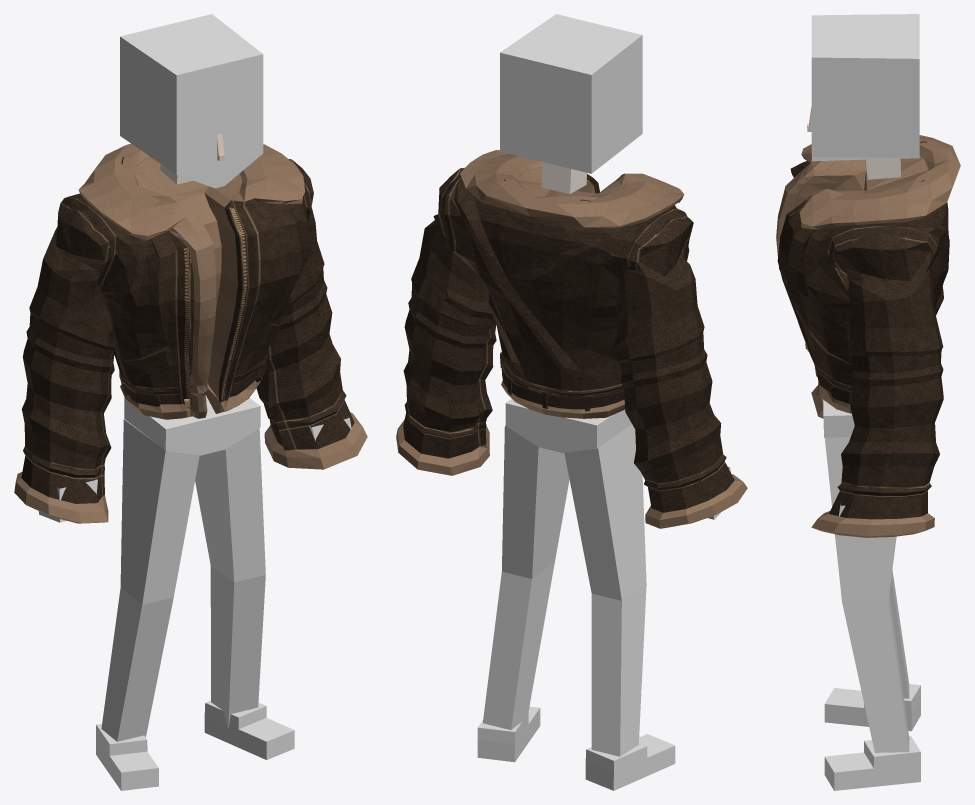
File: character_jacket_complete.fbx
The picture shows the model from 3 angles, left to right: view 1: azimuth 30°, elevation 25°; view 2: azimuth 150°, elevation 25°; view 3: azimuth 270°, elevation 25°; orthographic projection.
Parts seen in each view (by area): view 1: Jacket_1, cabeca, coxa direita, coxa esquerda, canela direita, canela esquerda, pelve, pe esquerdo, pe direito; view 2: Jacket_1, cabeca, coxa direita, canela direita, coxa esquerda, canela esquerda, pelve, pe direito, pe esquerdo, pecoco; view 3: Jacket_1, cabeca, canela esquerda, coxa esquerda, pe esquerdo, pe direito, pelve, canela direita, pecoco.
Boxes of the visible parts, bbox=[...] form: Jacket_1: bbox=[14, 143, 367, 523]; cabeca: bbox=[120, 14, 263, 188]; coxa direita: bbox=[120, 419, 199, 604]; coxa esquerda: bbox=[195, 428, 265, 582]; canela direita: bbox=[101, 588, 173, 741]; canela esquerda: bbox=[210, 566, 265, 728]; pelve: bbox=[124, 395, 260, 455]; pe esquerdo: bbox=[204, 700, 294, 759]; pe direito: bbox=[96, 724, 158, 790]; Jacket_1: bbox=[396, 150, 747, 528]; cabeca: bbox=[500, 14, 642, 173]; coxa direita: bbox=[564, 424, 646, 600]; canela direita: bbox=[591, 584, 646, 756]; coxa esquerda: bbox=[502, 425, 569, 578]; canela esquerda: bbox=[483, 562, 554, 733]; pelve: bbox=[505, 399, 631, 453]; pe direito: bbox=[585, 734, 675, 790]; pe esquerdo: bbox=[477, 706, 540, 762]; pecoco: bbox=[541, 162, 586, 193]; Jacket_1: bbox=[776, 135, 960, 537]; cabeca: bbox=[811, 14, 919, 161]; canela esquerda: bbox=[842, 593, 909, 752]; coxa esquerda: bbox=[824, 437, 896, 601]; pe esquerdo: bbox=[824, 736, 920, 790]; pe direito: bbox=[824, 684, 920, 731]; pelve: bbox=[823, 400, 854, 437]; canela direita: bbox=[889, 570, 909, 698]; pecoco: bbox=[866, 158, 900, 179].
Size of the model in its own units: 0.8931 by 1.83 by 0.431.
4 materials, 3 textured.
